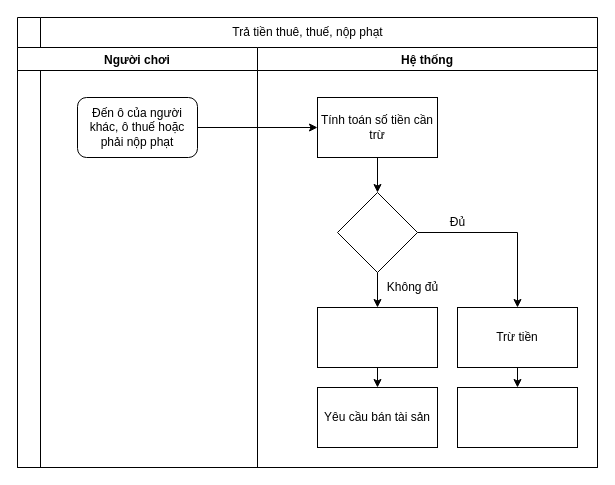
The diagram is 615 pixels wide and 485 high, and some of its shapes have lost their labels. Here are the shapes that lost their labels. From the top down, the centre of each, then its label:
At [377,232]: "Kiểm tra số dư".
At [377,337]: "Kiểm tra phá sản".
At [517,417]: "Thông báo giao dịch".
